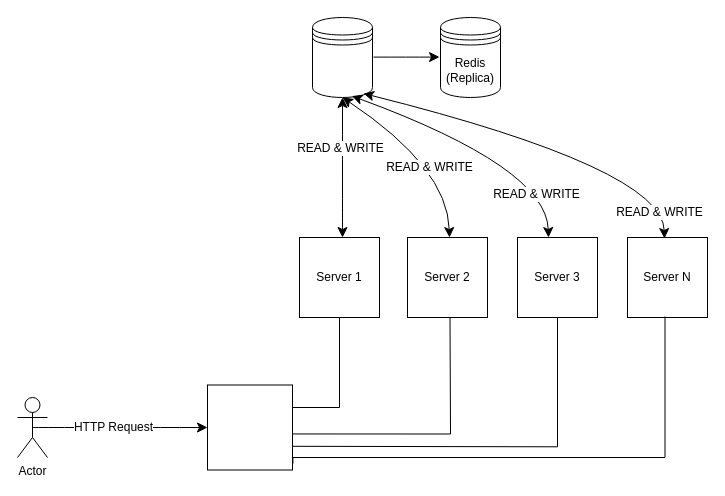
The diagram is 725 pixels wide and 496 high, and some of its shapes have lost their labels. Each missing label, with the box of its shape:
Load Balancer: (206, 384, 292, 470)
Redis (Master): (312, 16, 372, 98)
